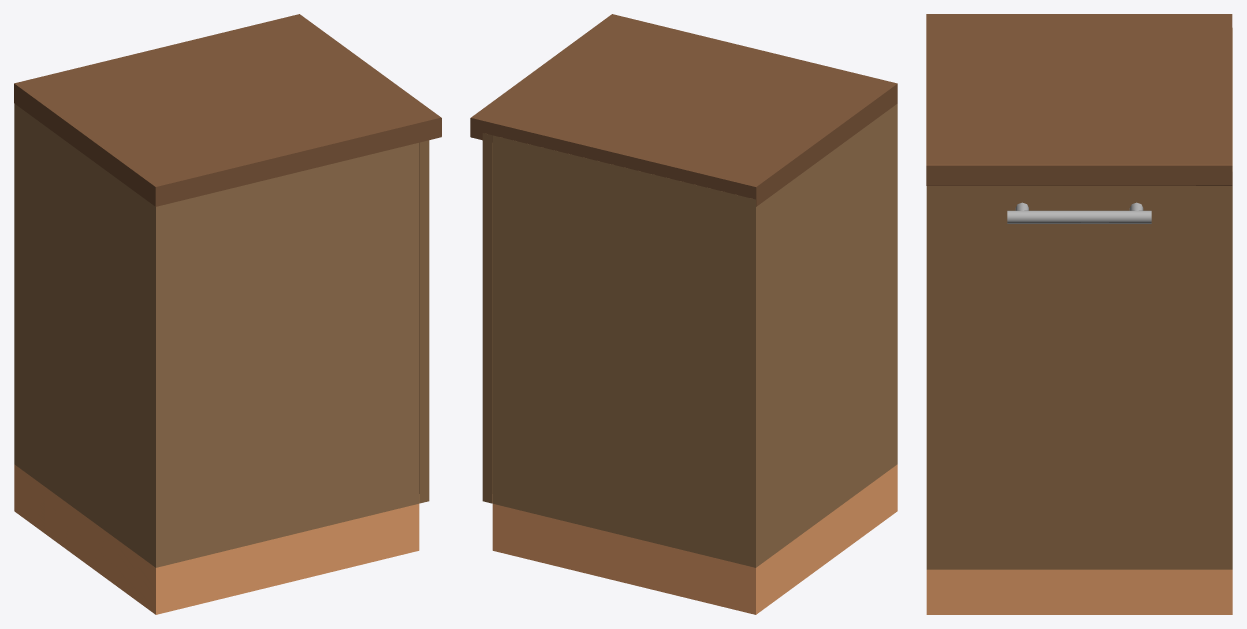
File: modular_kitchen_table_3.FBX
3 renders of one model, left to right at view 1: azimuth 30°, elevation 25°; view 2: azimuth 150°, elevation 25°; view 3: azimuth 270°, elevation 25°, orthographic. The views are drawn at different scales.
Parts seen in each view (by area): view 1: modular_kitchen_table_3; view 2: modular_kitchen_table_3; view 3: modular_kitchen_table_3.
Part boxes in pixels (box(x1,y1,x2,y2)): modular_kitchen_table_3: box(14, 14, 441, 614); modular_kitchen_table_3: box(470, 14, 897, 614); modular_kitchen_table_3: box(926, 14, 1232, 614).
Bounding box in the file's own units: 0.6217 × 0.8567 × 0.5141.
